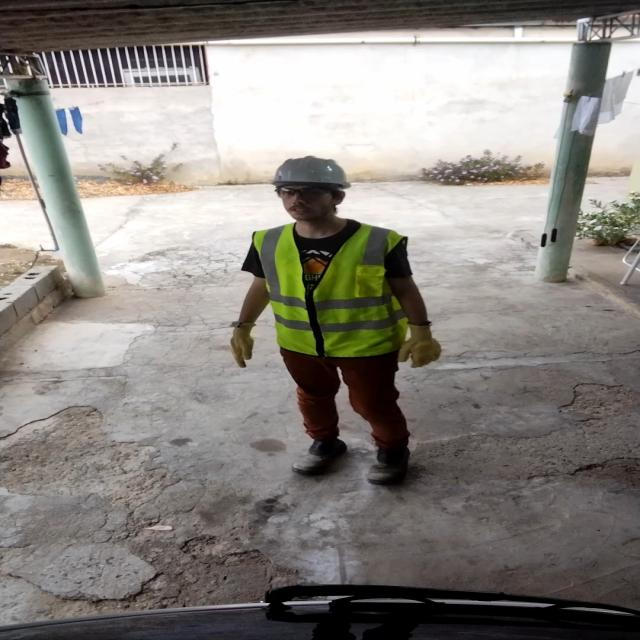glove: (397, 322, 446, 370), (225, 323, 256, 369)
helmet: (259, 153, 357, 201)
pants: (280, 346, 407, 462)
vest: (268, 221, 415, 355)
